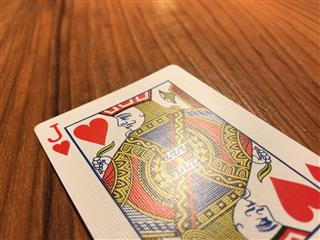JackOfHearts: (33, 63, 320, 240)
